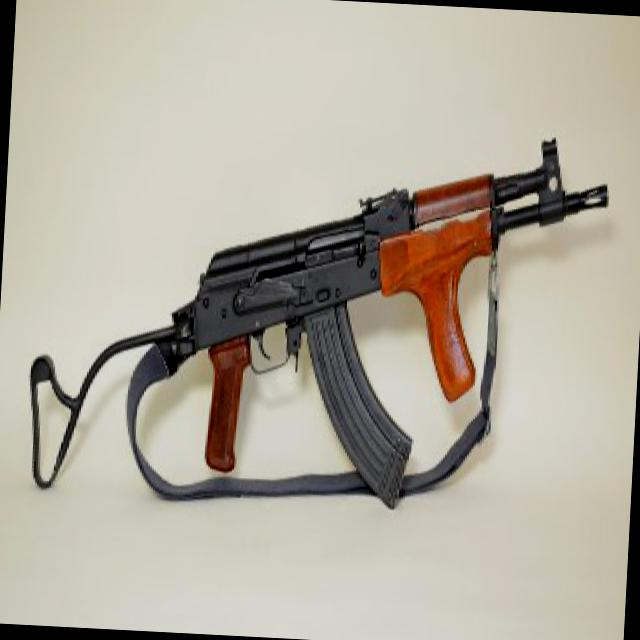long weapon: (12, 108, 616, 524)
